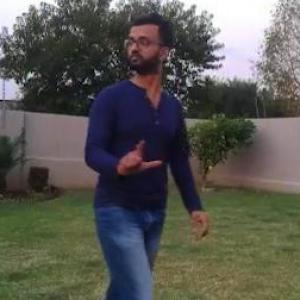land_hand: (110, 130, 163, 181)
